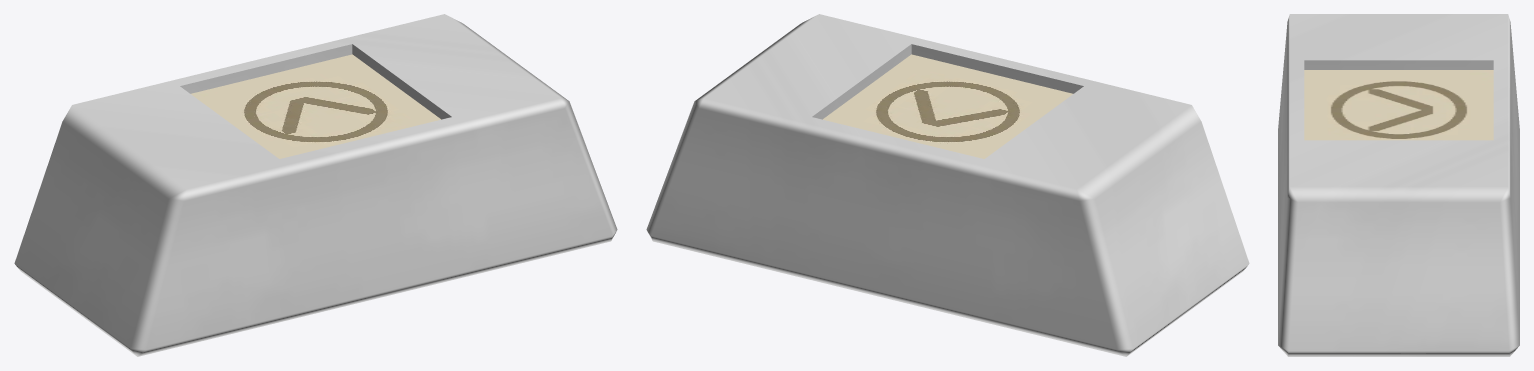
Rendered from ingot.glb.
3 views of the same model, side by side, from view 1: azimuth 30°, elevation 25°; view 2: azimuth 150°, elevation 25°; view 3: azimuth 270°, elevation 25° (orthographic). The views are drawn at different scales.
Visible parts, largest first — view 1: fx.ingot; view 2: fx.ingot; view 3: fx.ingot.
Boxes of the visible parts, x1,y1,x2,y2 form: fx.ingot: (14, 14, 617, 356); fx.ingot: (646, 14, 1249, 356); fx.ingot: (1278, 14, 1519, 356).
Bounding box in the file's own units: 0.1975 × 0.06 × 0.0895.
Materials: 2 (2 with a texture image).
